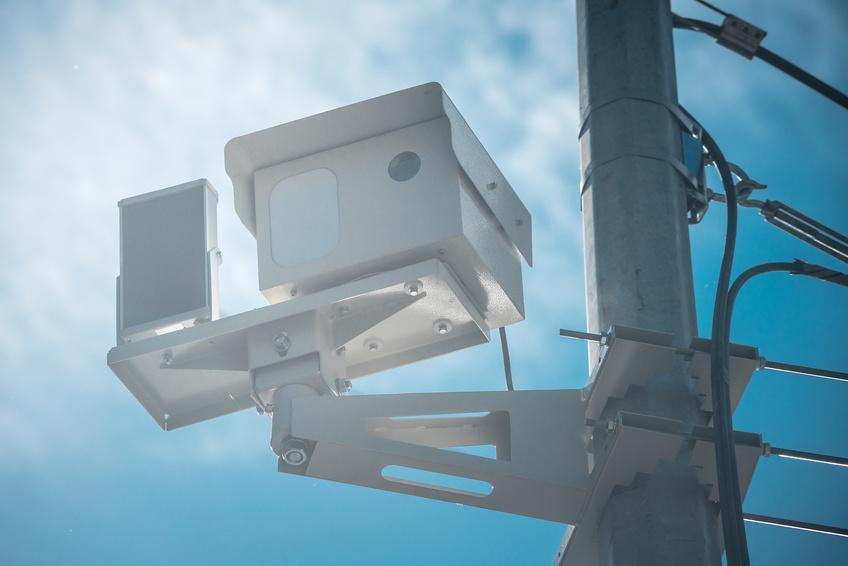Monitor: (106, 79, 533, 432)
